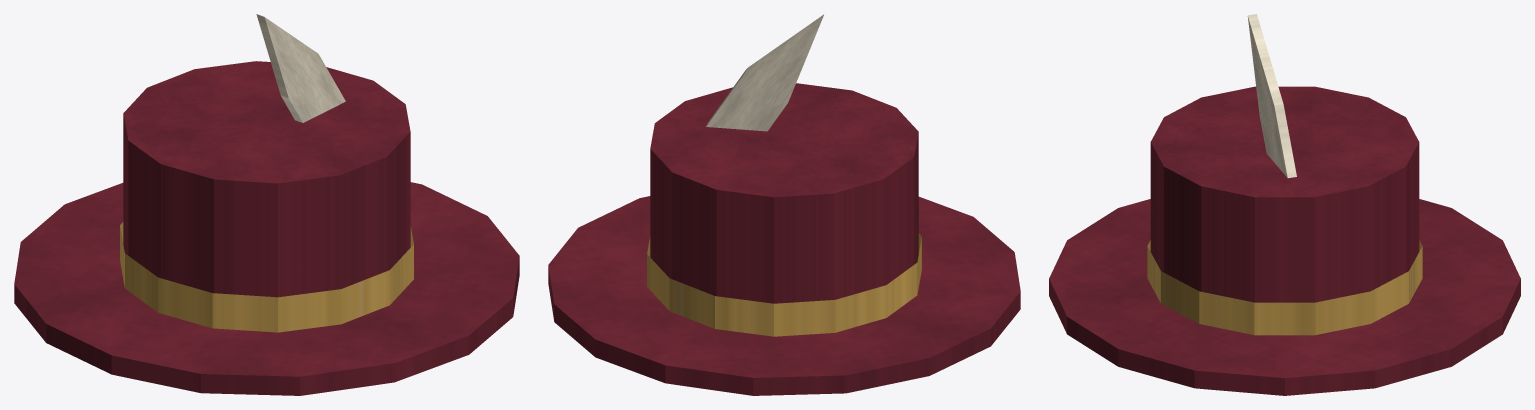
File: rival_mira_hat.obj
3 views of the same model, side by side, from view 1: azimuth 30°, elevation 25°; view 2: azimuth 150°, elevation 25°; view 3: azimuth 270°, elevation 25° (orthographic). The views are drawn at different scales.
Parts seen in each view (by area): view 1: rival_mira_hat; view 2: rival_mira_hat; view 3: rival_mira_hat.
Boxes of the visible parts, <box> form: rival_mira_hat: <box>14,14,519,395</box>; rival_mira_hat: <box>548,14,1020,395</box>; rival_mira_hat: <box>1049,14,1520,395</box>.
Bounding box in the file's own units: 0.9 × 0.5698 × 0.9.
